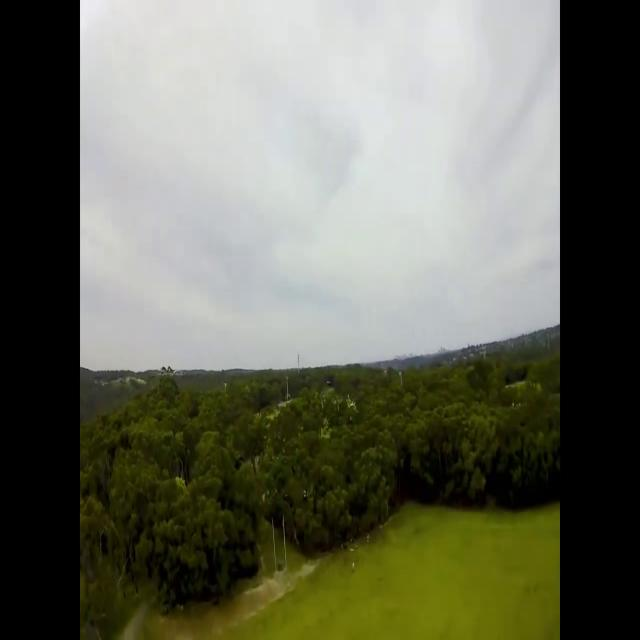iha: (350, 396, 354, 411)
